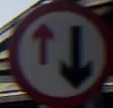Two way: (20, 18, 96, 88)
